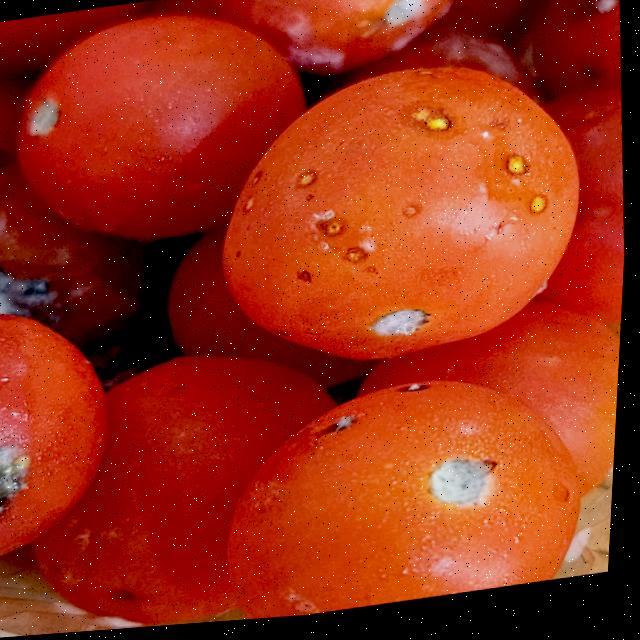rot_lvl1: (406, 99, 454, 138), (505, 149, 529, 181), (319, 214, 345, 238), (527, 190, 549, 218), (295, 167, 319, 191), (341, 244, 366, 266), (242, 195, 260, 212)
rot_lvl2: (372, 303, 433, 341), (0, 438, 28, 519), (330, 413, 359, 435)
